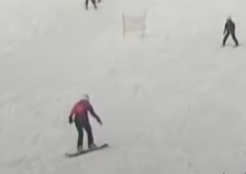skier: (219, 15, 242, 49)
snowboarder: (62, 94, 109, 158)
